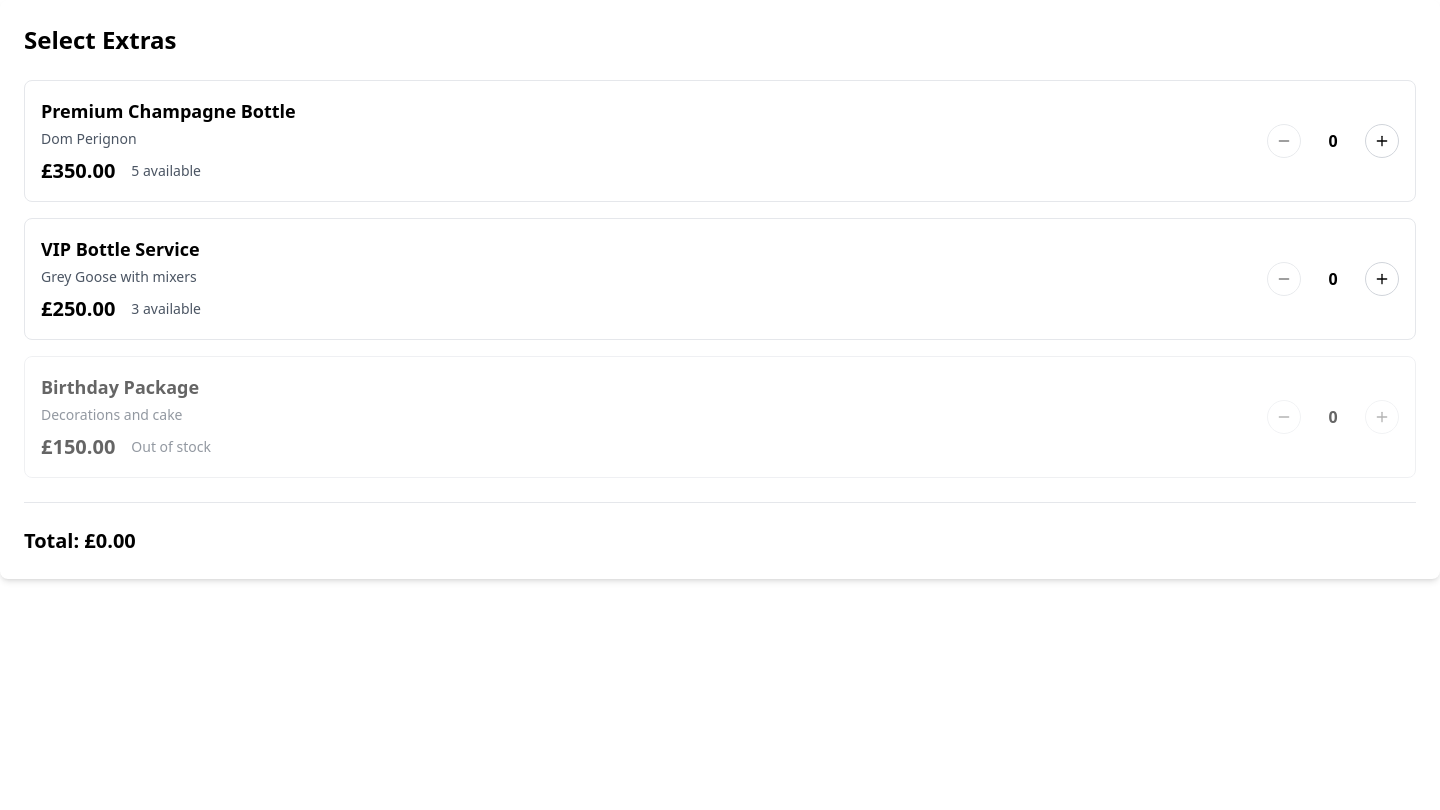
Test: ExtraSelection Component › Quantity Controls › should decrement quantity when minus button clicked
Expected: the heading "Premium Champagne Bottle" is shown, [41,99,296,123]
Click the button named "increase quantity": coordinates (1382, 141) [1365,124,1399,158]
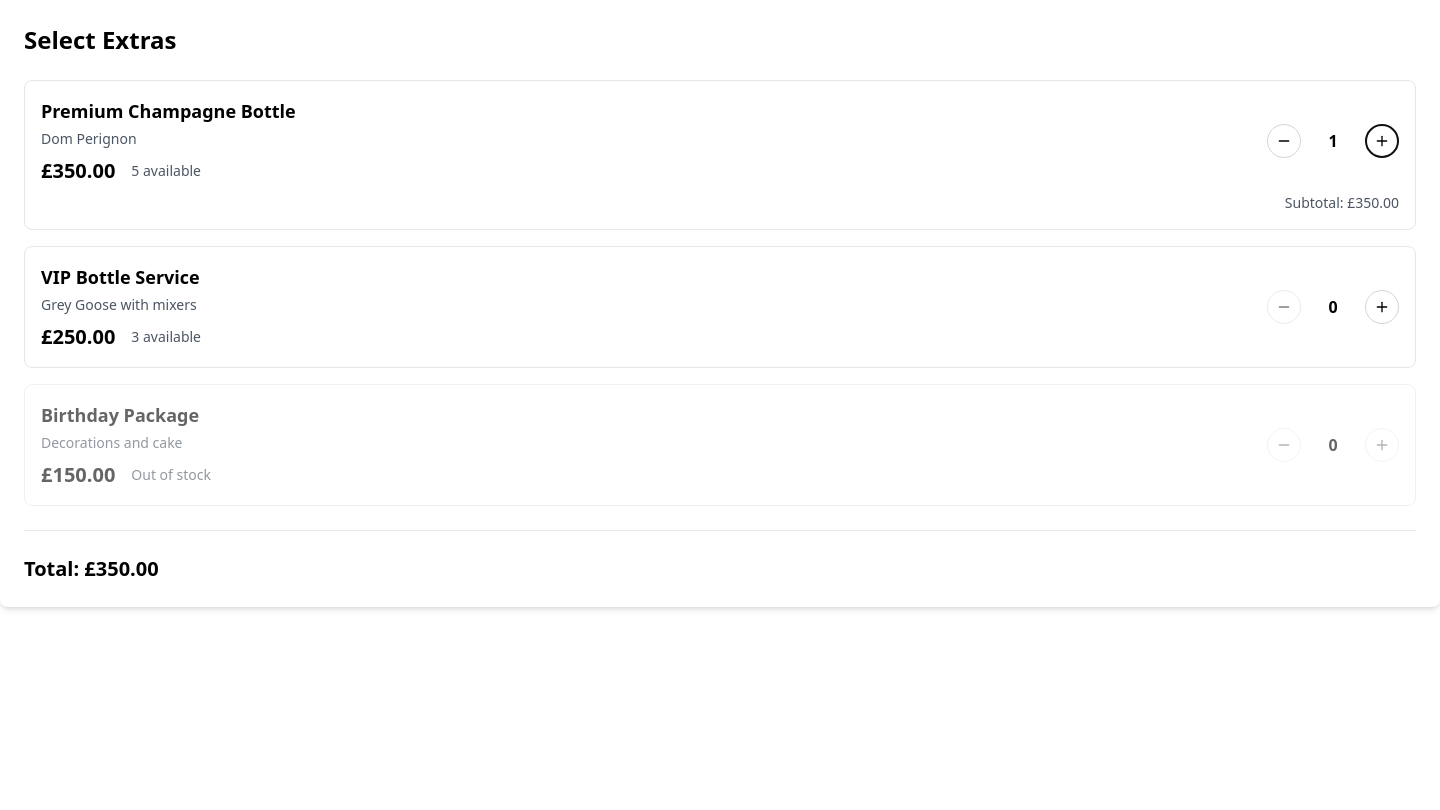
Click the button named "increase quantity": coordinates (1382, 141) [1365,124,1399,158]
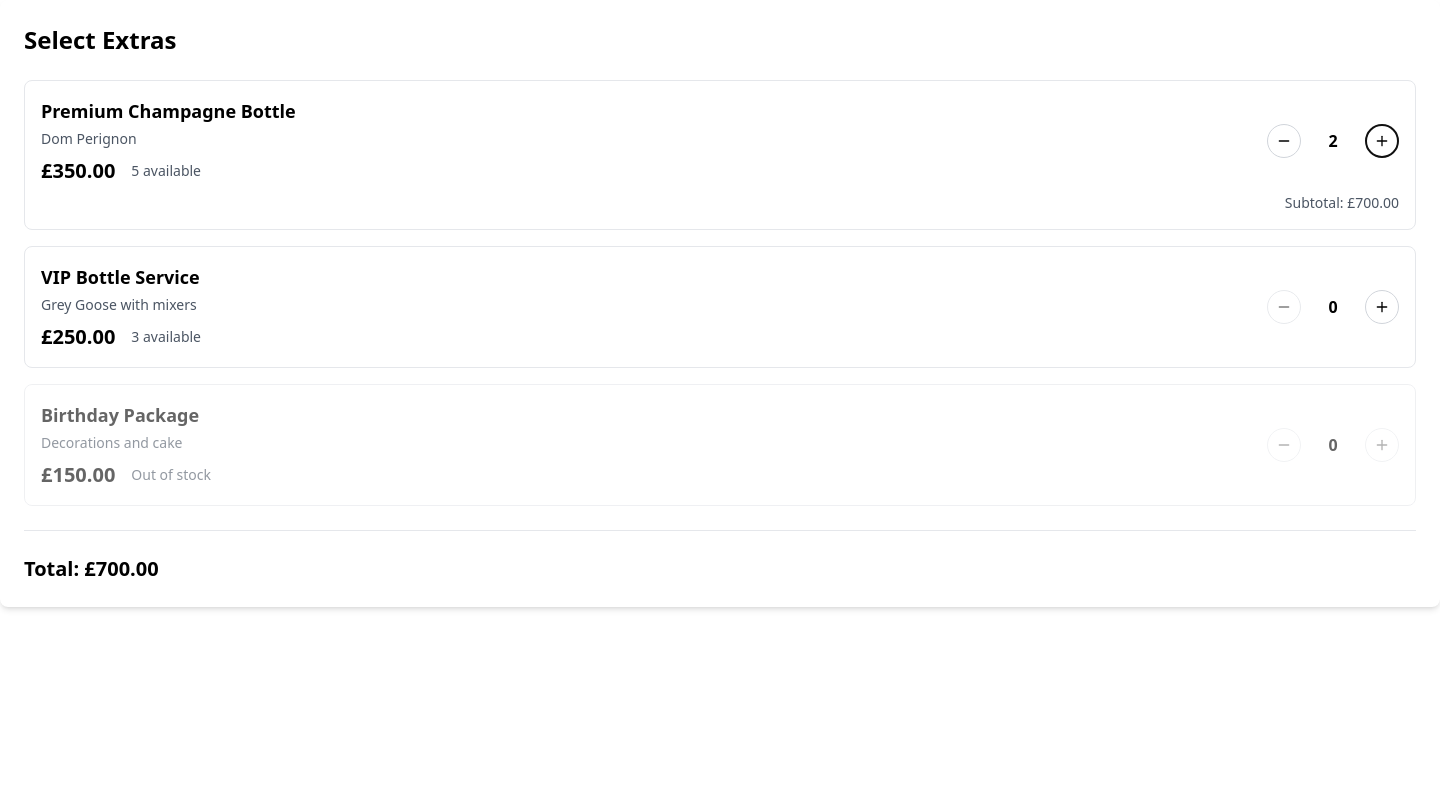
Now the text with test id "quantity-1" reads "2", box [1328,130,1338,152]
Click the button named "decrease quantity": coordinates (1284, 141) [1267,124,1301,158]
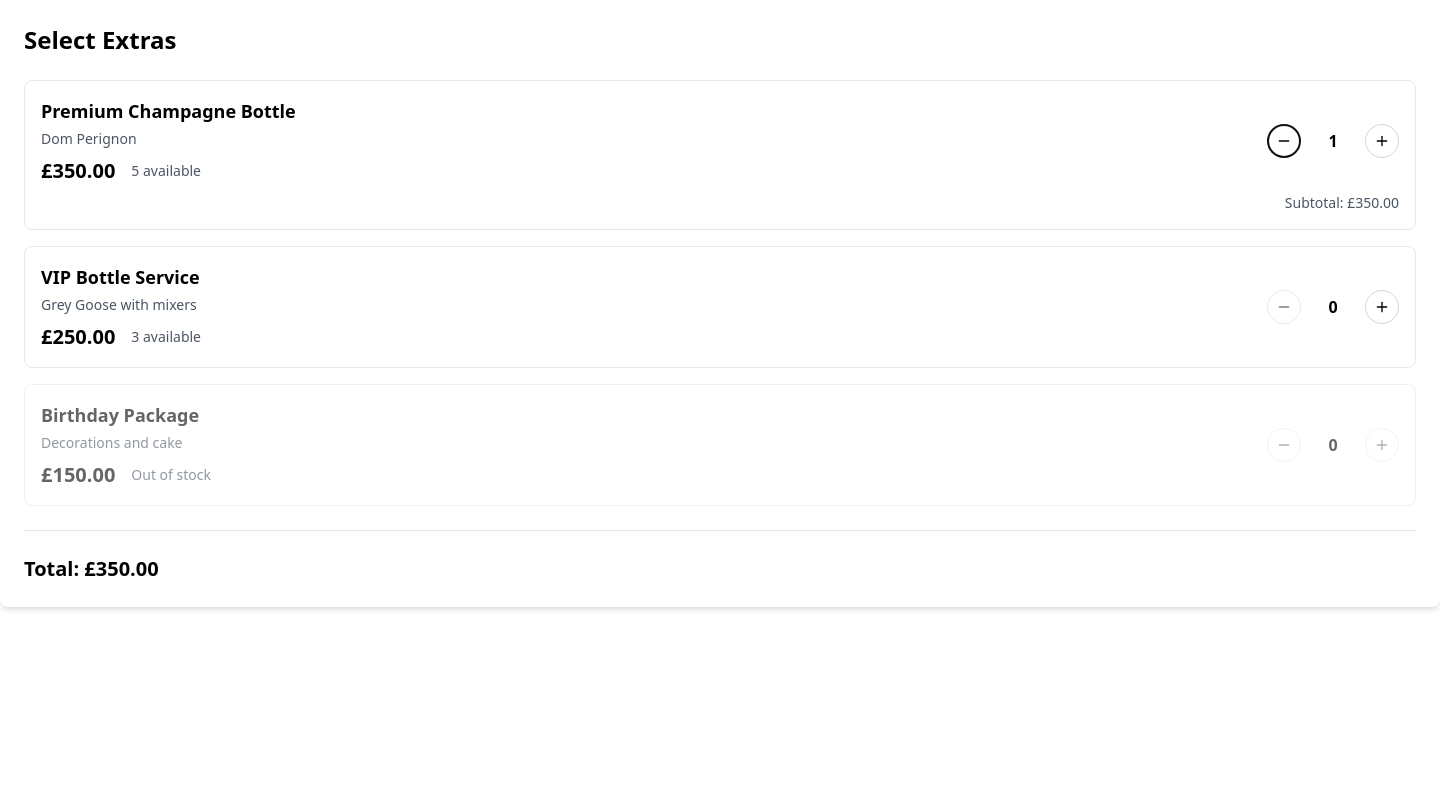
Now the text with test id "quantity-1" reads "1", box [1328,130,1338,152]
